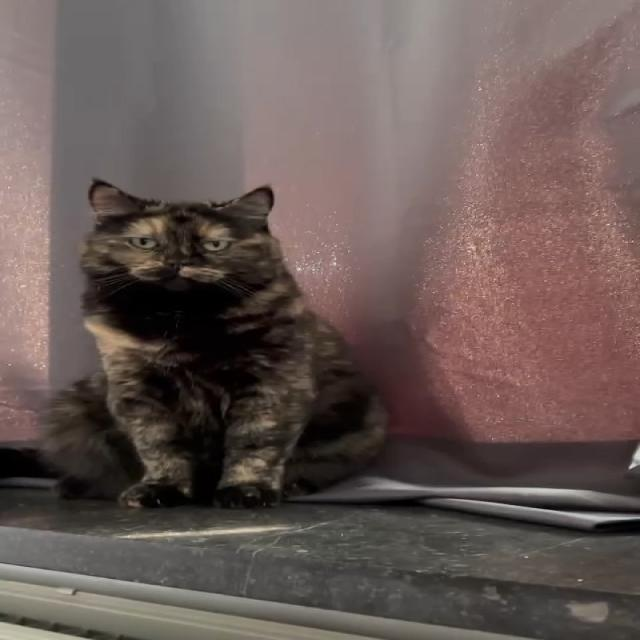authorized: (36, 178, 391, 510)
